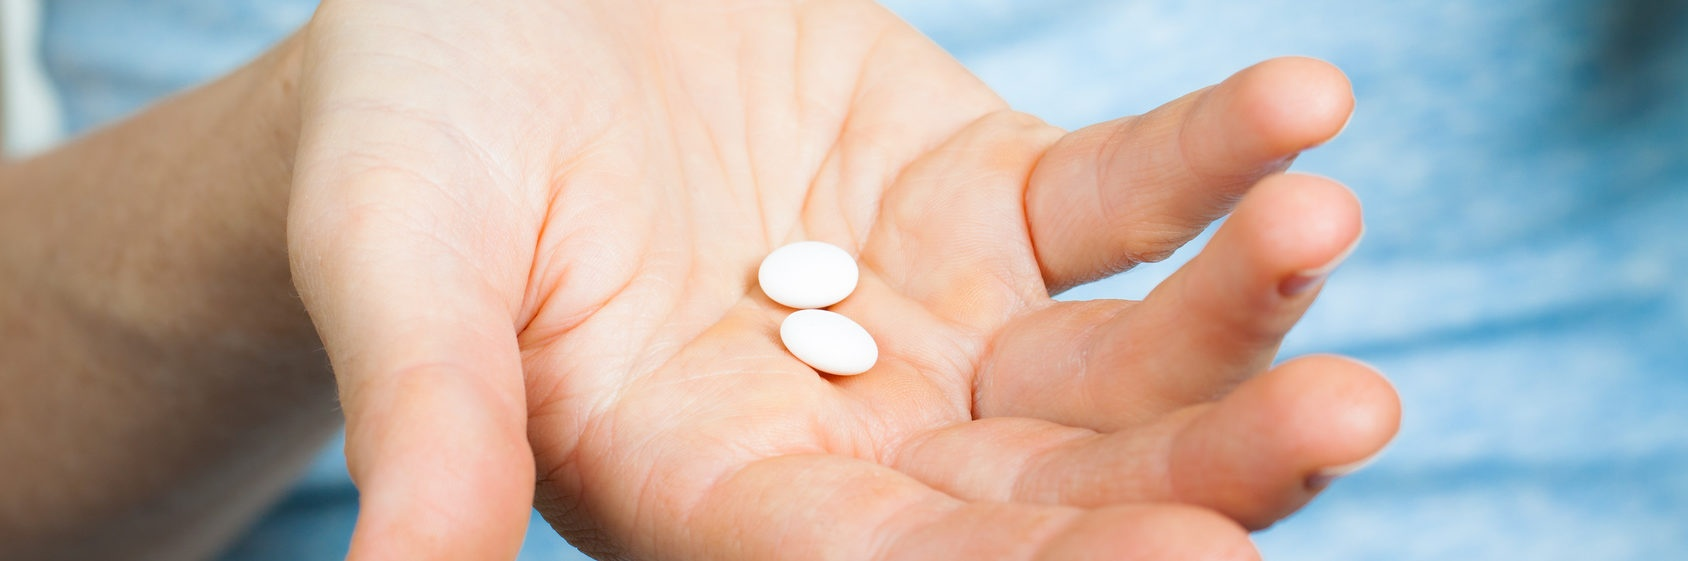pills: (752, 220, 862, 315), (768, 304, 875, 384)
